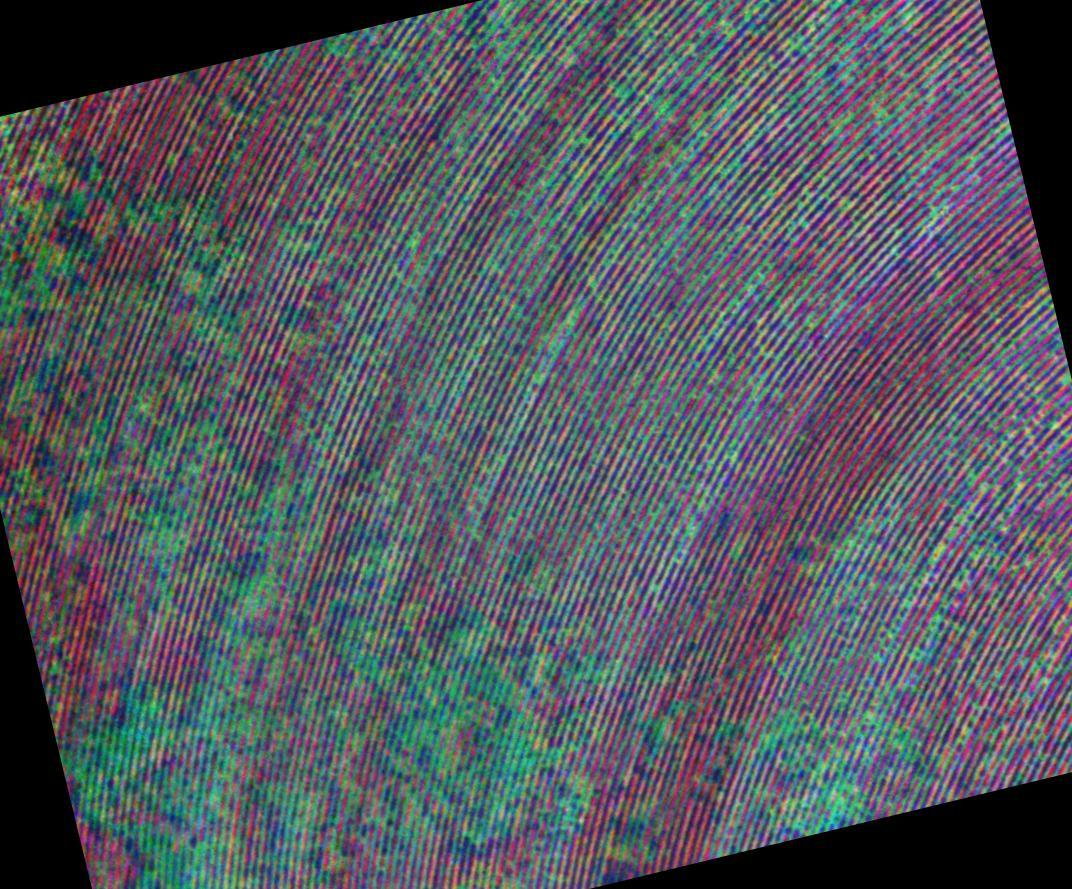dc: (400, 636, 556, 841), (62, 695, 232, 839), (219, 469, 316, 625), (4, 150, 89, 312), (784, 771, 869, 837), (485, 5, 544, 65), (834, 516, 886, 565)
